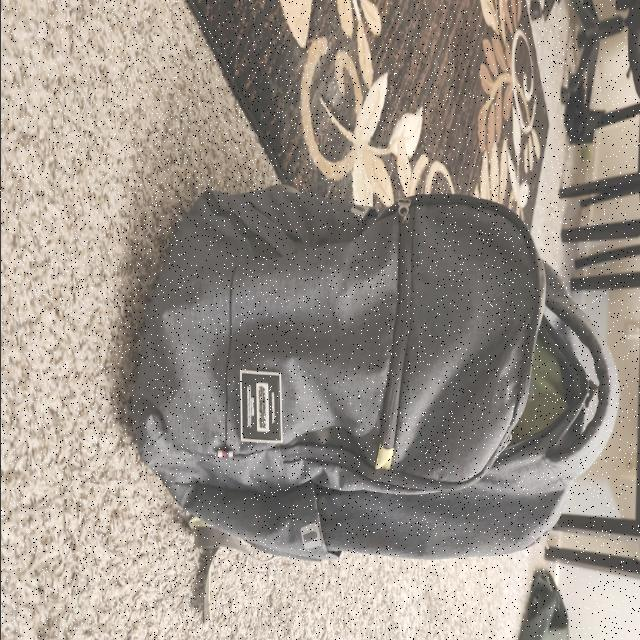bag: (124, 201, 620, 565)
